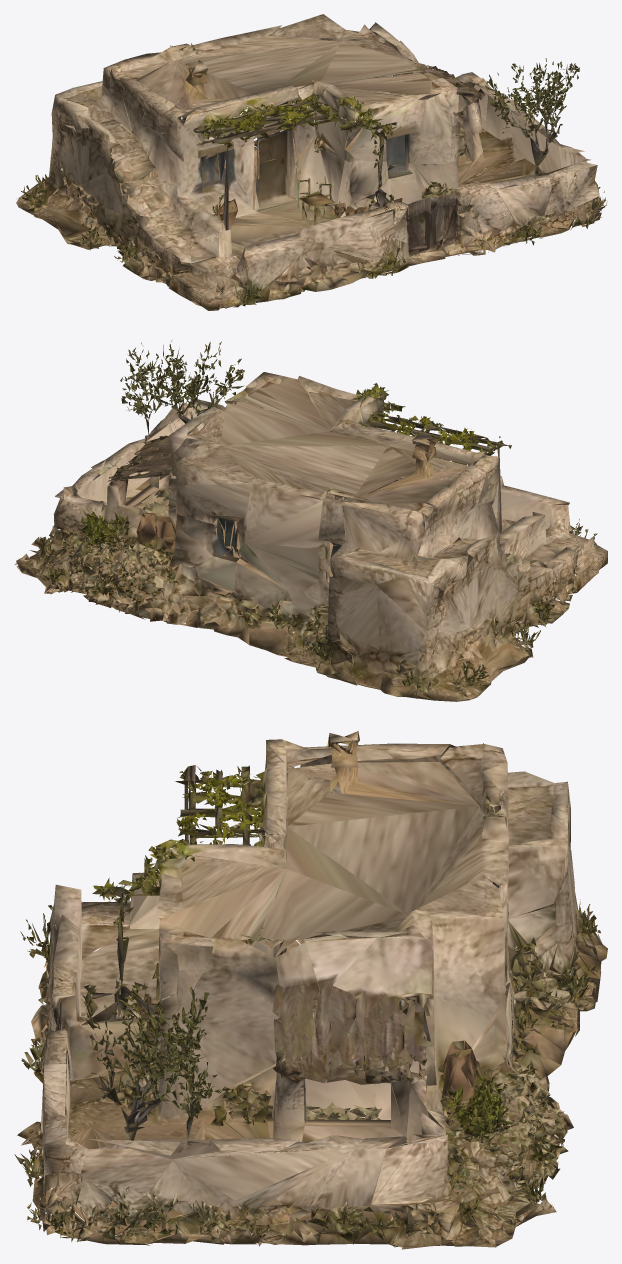
File: Olive_Grove_Cottage_town.glb
The picture shows the model from 3 angles, top to bottom: view 1: azimuth 30°, elevation 25°; view 2: azimuth 150°, elevation 25°; view 3: azimuth 270°, elevation 25°; orthographic projection. The views are drawn at different scales.
Parts seen in each view (by area): view 1: Olive_Grove_Cottage; view 2: Olive_Grove_Cottage; view 3: Olive_Grove_Cottage.
Part boxes in pixels (x1,y1,x2,y2): Olive_Grove_Cottage: (16, 14, 607, 310); Olive_Grove_Cottage: (15, 340, 607, 701); Olive_Grove_Cottage: (14, 731, 607, 1249).
Bounding box in the file's own units: 1.81 × 0.6514 × 1.31.
Materials: 1 (1 with a texture image).
